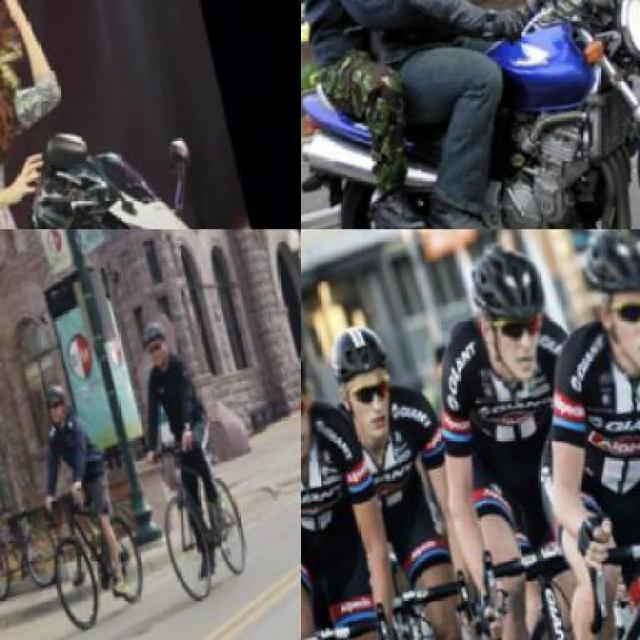With Helmet: (438, 230, 590, 412), (310, 304, 424, 458), (551, 229, 638, 391), (300, 314, 349, 477), (40, 374, 86, 434), (134, 310, 178, 368)
